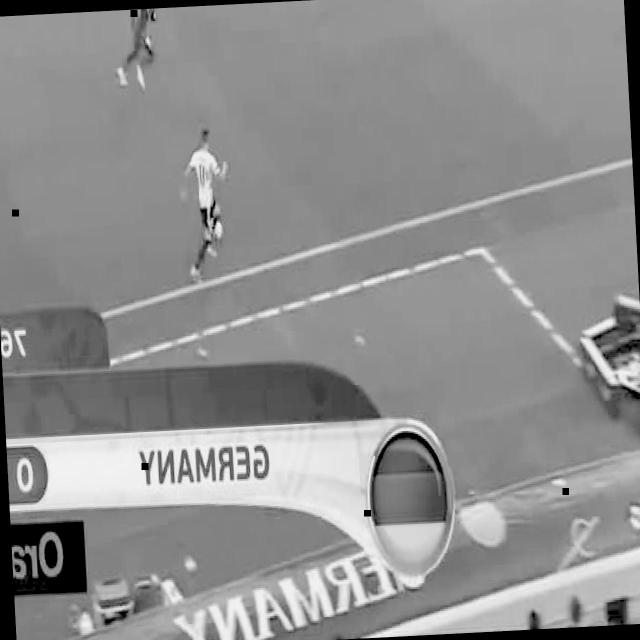ball: (210, 217, 224, 246)
player-white: (175, 127, 235, 284), (113, 8, 163, 90)
